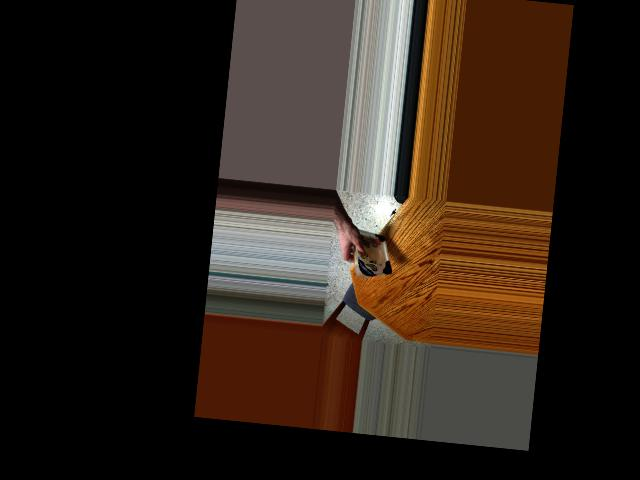cheese: (351, 227, 391, 282)
